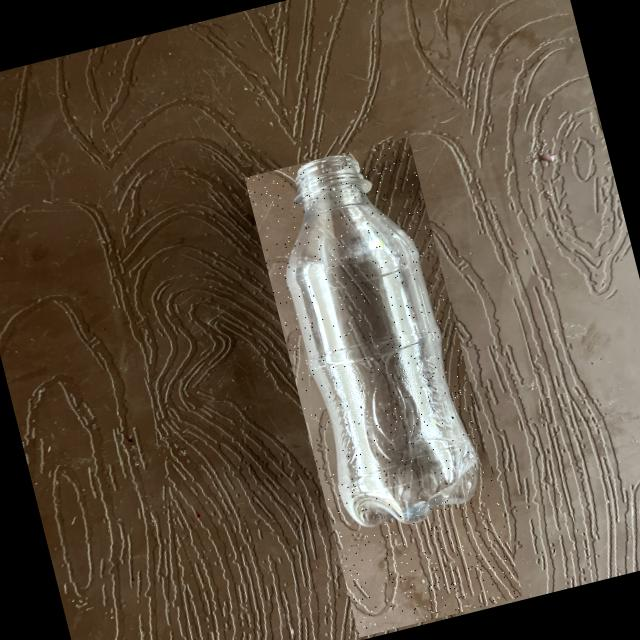PET_ClearBottle: (243, 136, 522, 637)
